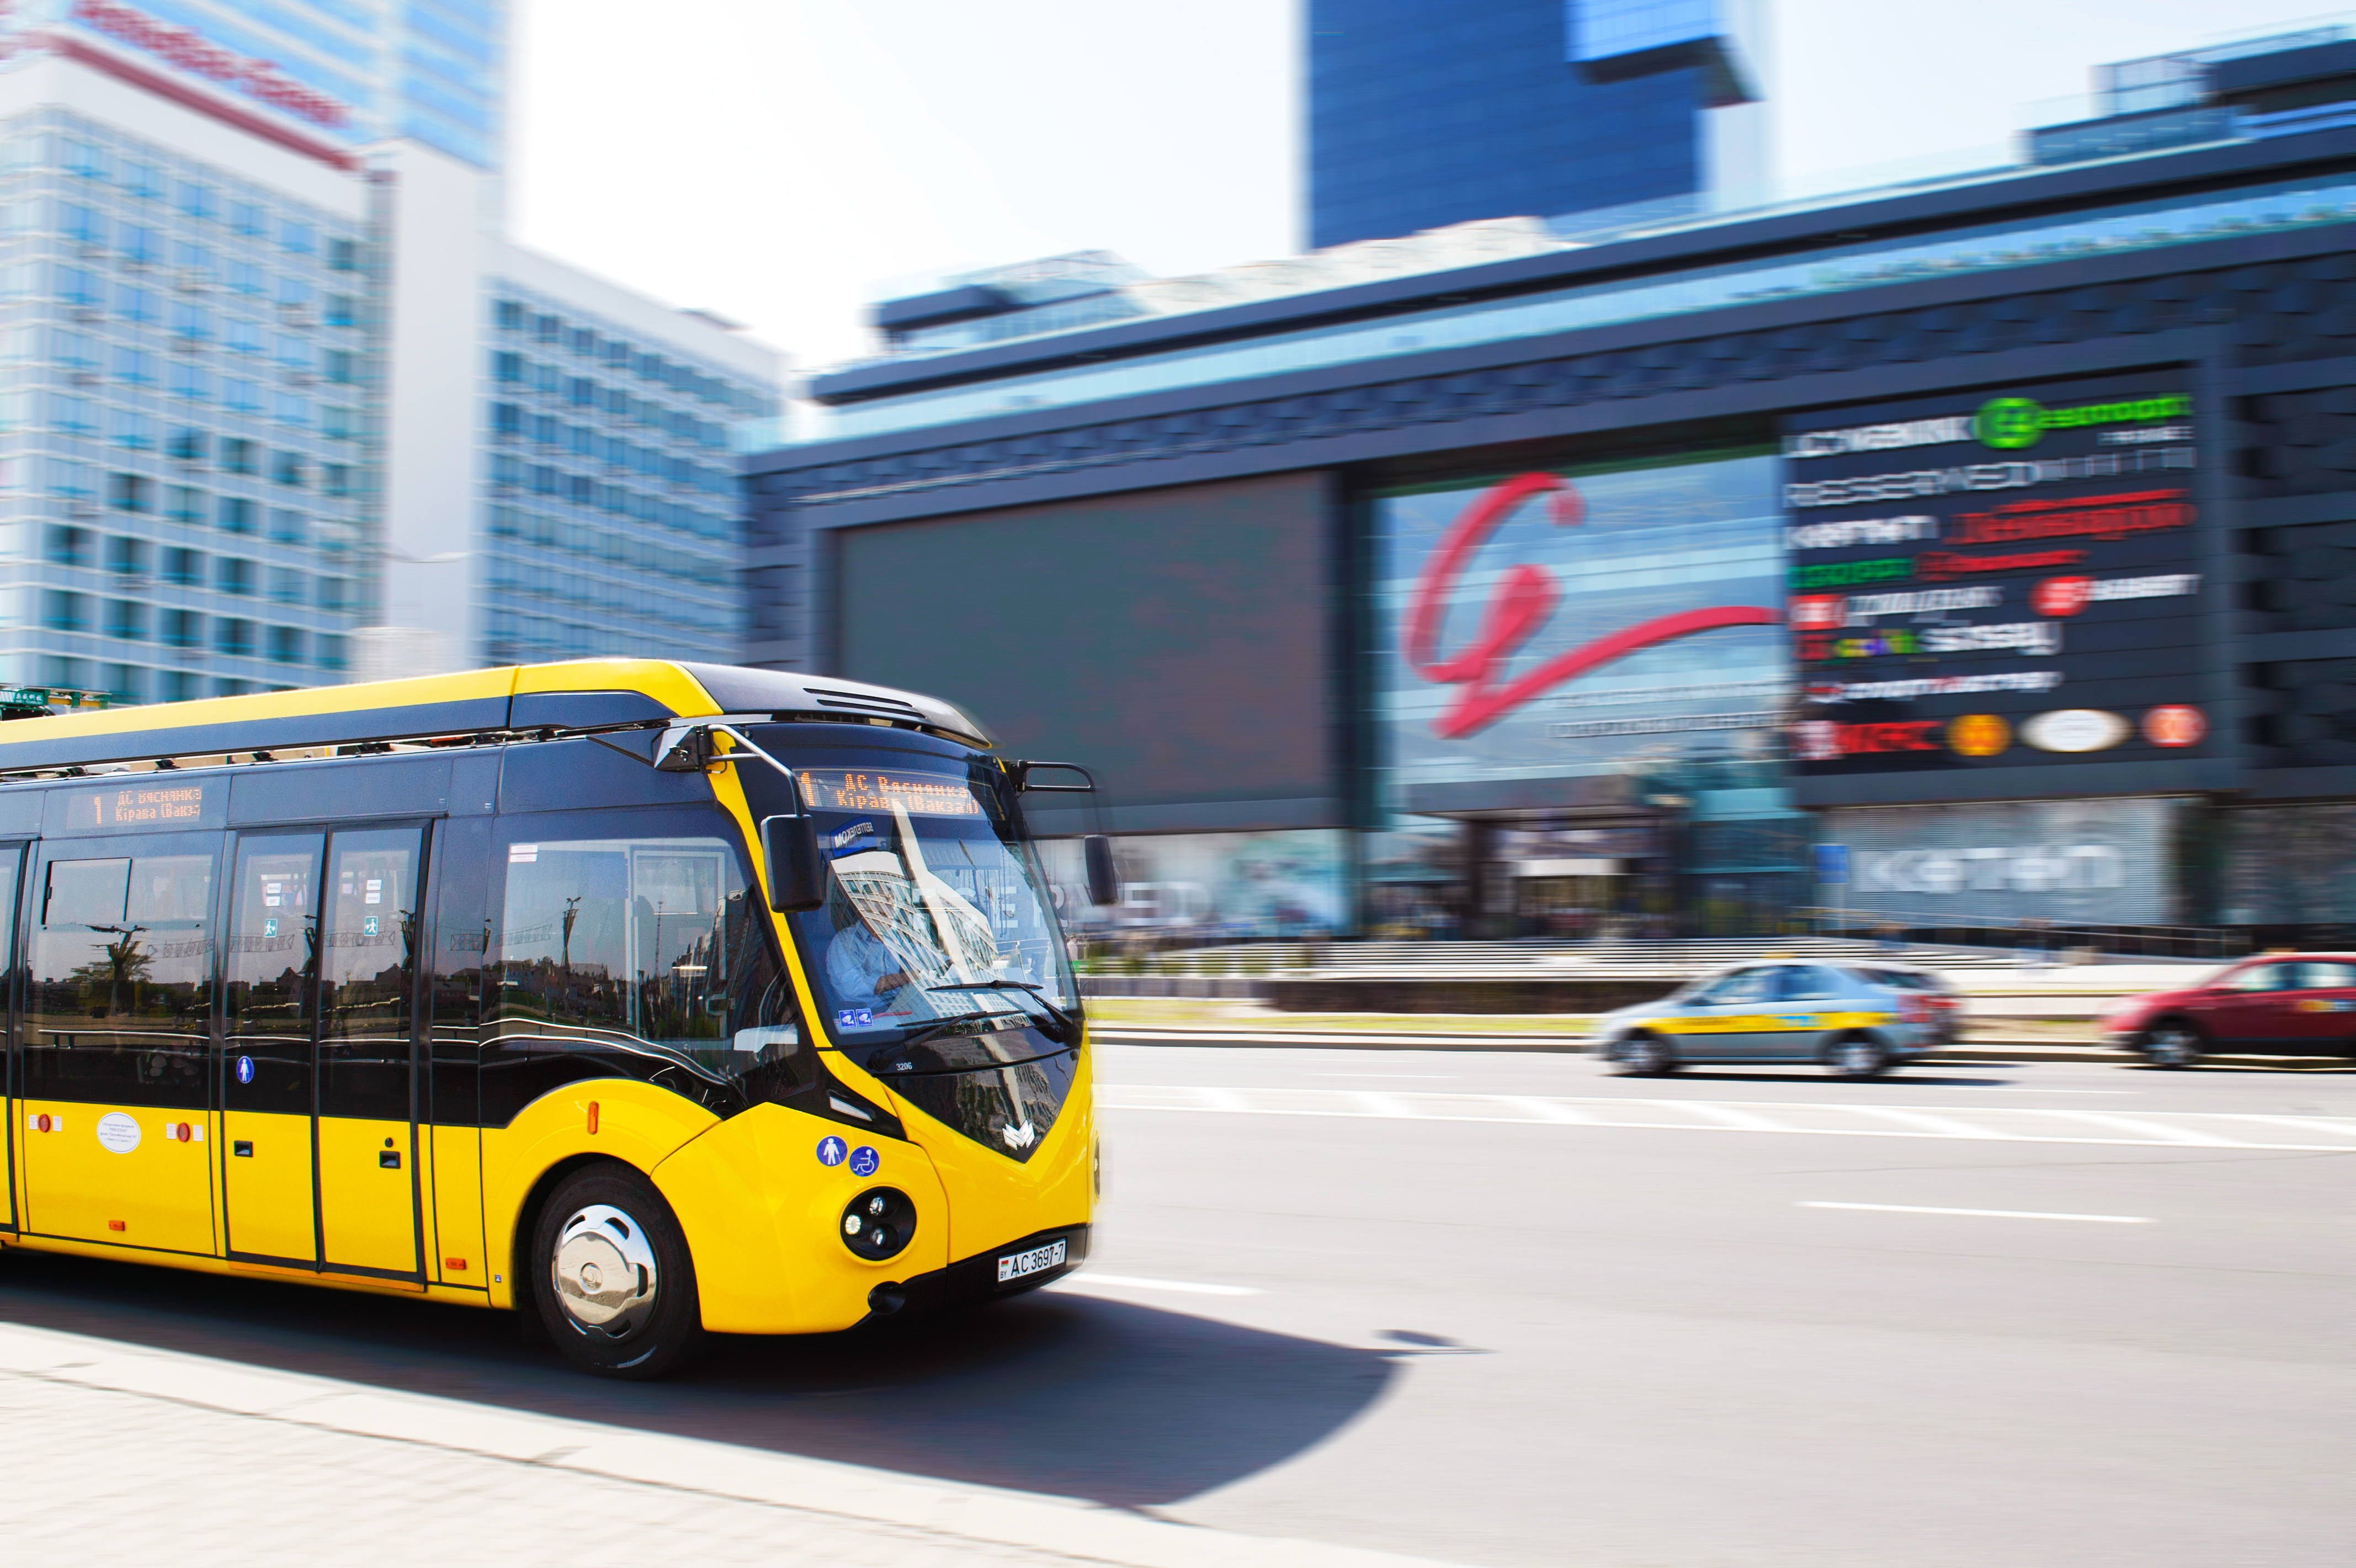bus: (8, 657, 1100, 1374)
passenger: (1601, 951, 1969, 1098)
